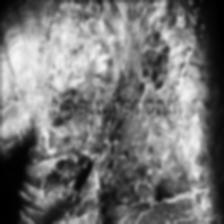Non-Cancerous Skin Condition: (39, 122, 207, 224), (46, 0, 200, 99)
